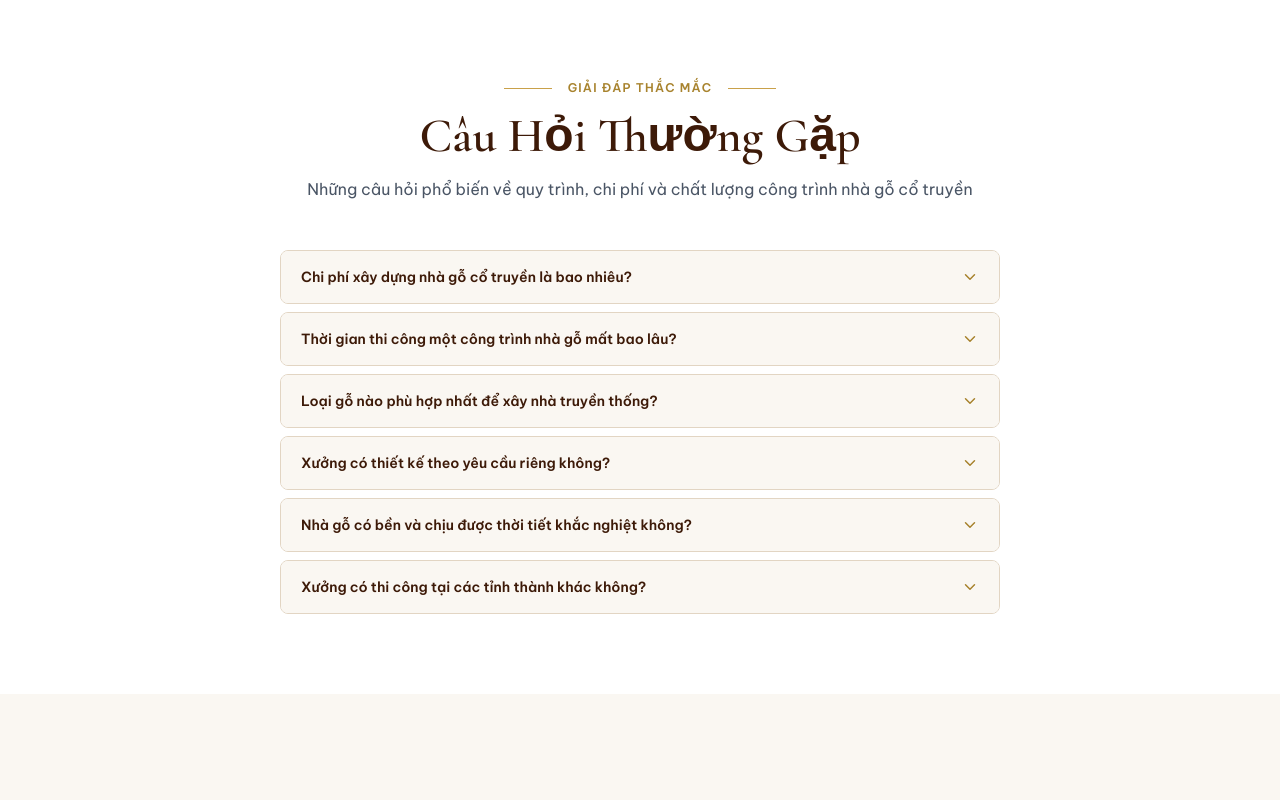
Test: SR-906: FaqSection with Sanity CMS data › clicking a question expands to show the answer
What coordinates should you click on to do the following:
click the button "Chi phí xây dựng nhà gỗ cổ truyền là bao nhiêu?"
I would click on:
 (467, 277)
Its box is [281,251,999,303].
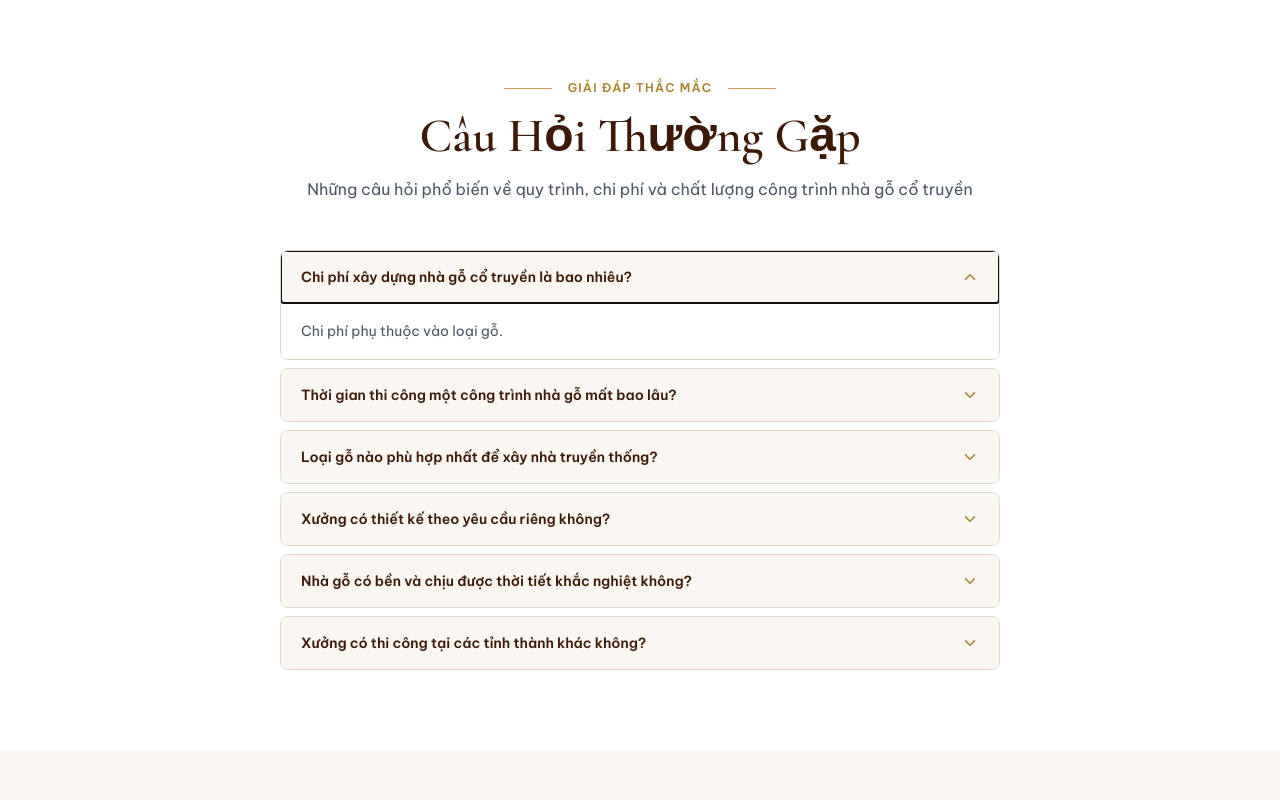
Result: the text "Chi phí phụ thuộc vào loại gỗ." is shown at [281,303,999,359]
